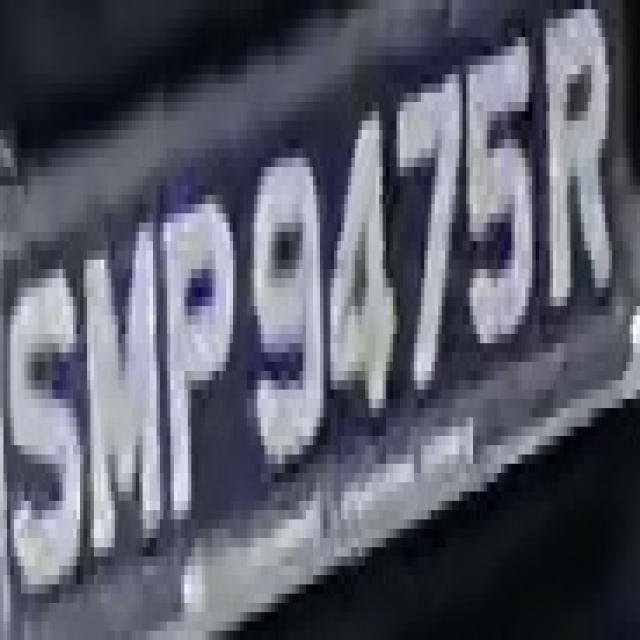4: (303, 84, 407, 418)
5: (449, 46, 546, 362)
7: (386, 65, 470, 389)
9: (240, 130, 334, 501)
M: (73, 223, 164, 556)
P: (150, 194, 247, 528)
R: (532, 18, 619, 324)
S: (0, 260, 83, 603)
